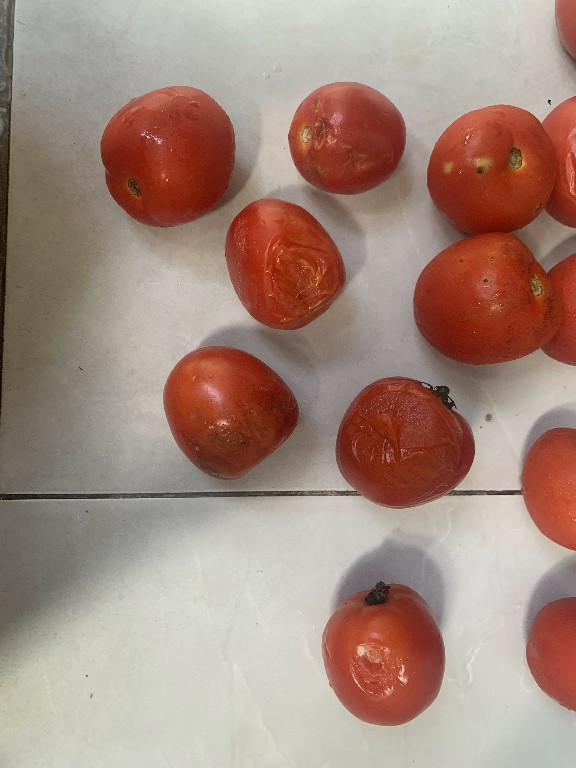NG: (309, 574, 458, 734), (155, 337, 303, 493), (323, 369, 475, 514), (406, 233, 563, 363), (216, 194, 349, 347), (421, 93, 568, 226), (277, 67, 413, 194)
OK: (86, 80, 241, 222)
